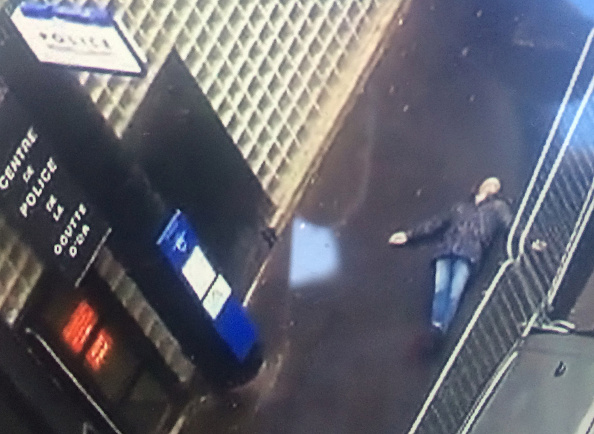deitado: (34, 4, 541, 434)
